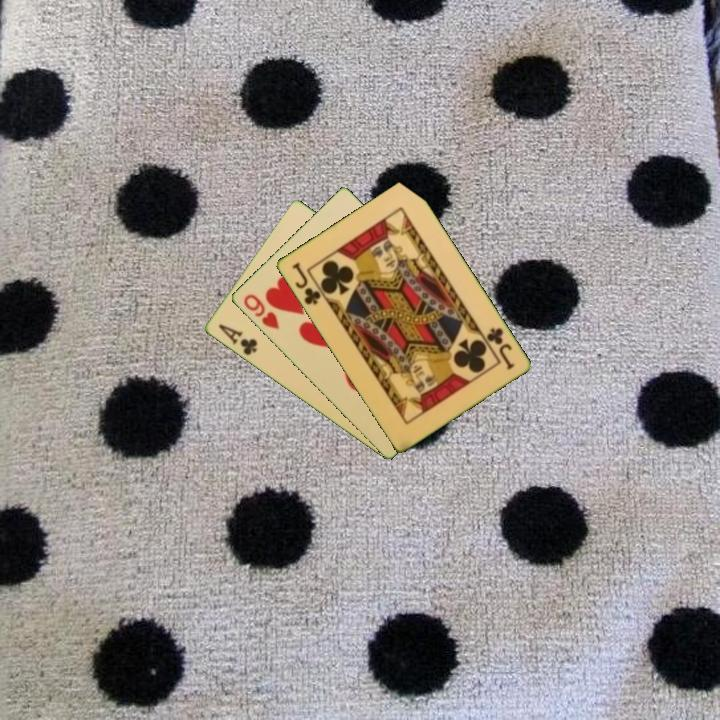9h: (239, 290, 282, 332)
Ac: (214, 320, 260, 358)
Jc: (288, 259, 323, 308), (483, 324, 517, 372)
